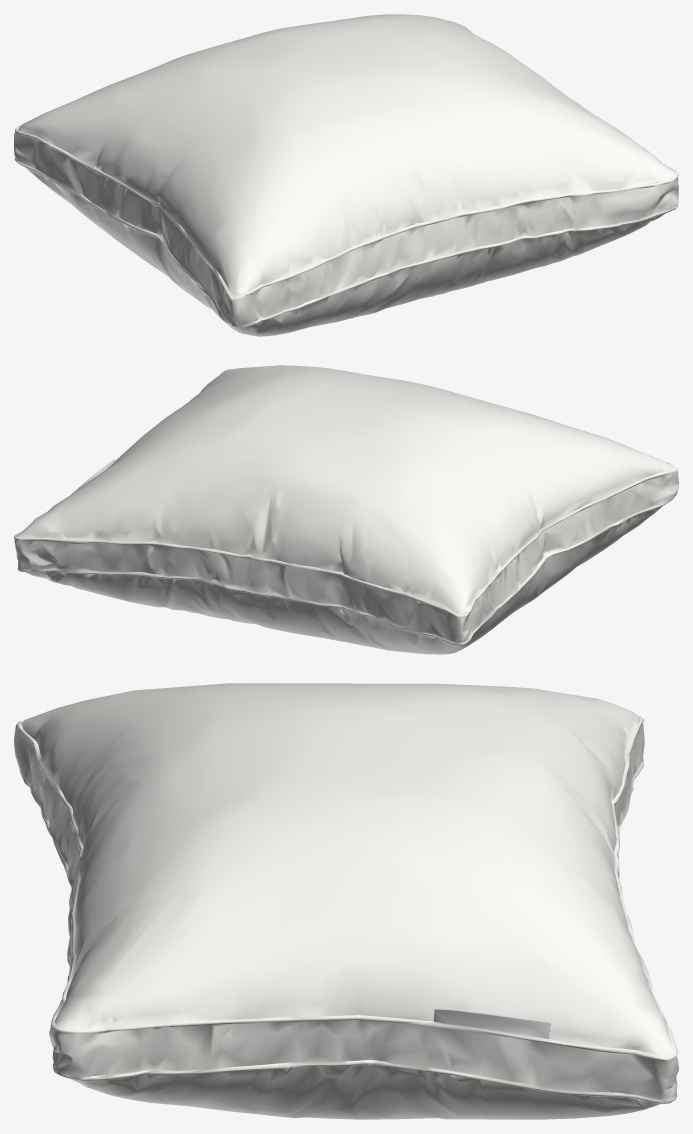
The model's file is strandmolke_poduszka_wysoka_10636996.glb.
3 renders of one model, top to bottom at view 1: azimuth 30°, elevation 25°; view 2: azimuth 150°, elevation 25°; view 3: azimuth 270°, elevation 25°, orthographic. The views are drawn at different scales.
Parts seen in each view (by area): view 1: strandmolke_poduszka_wysoka_10636996; view 2: strandmolke_poduszka_wysoka_10636996; view 3: strandmolke_poduszka_wysoka_10636996.
Part boxes in pixels (x1,y1,x2,y2): strandmolke_poduszka_wysoka_10636996: (14,14,678,336); strandmolke_poduszka_wysoka_10636996: (14,365,678,654); strandmolke_poduszka_wysoka_10636996: (14,683,678,1119).
Size of the model in its own units: 0.5606 by 0.2192 by 0.4942.
1 material, 1 textured.
